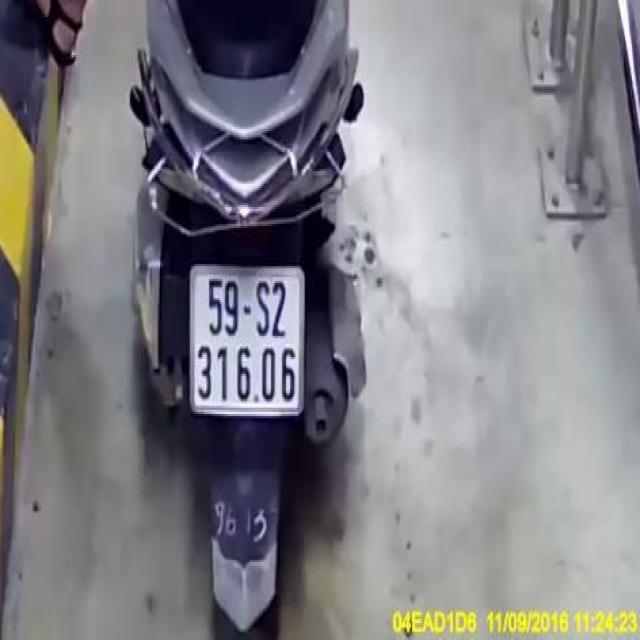bien_so: (186, 260, 305, 418)
